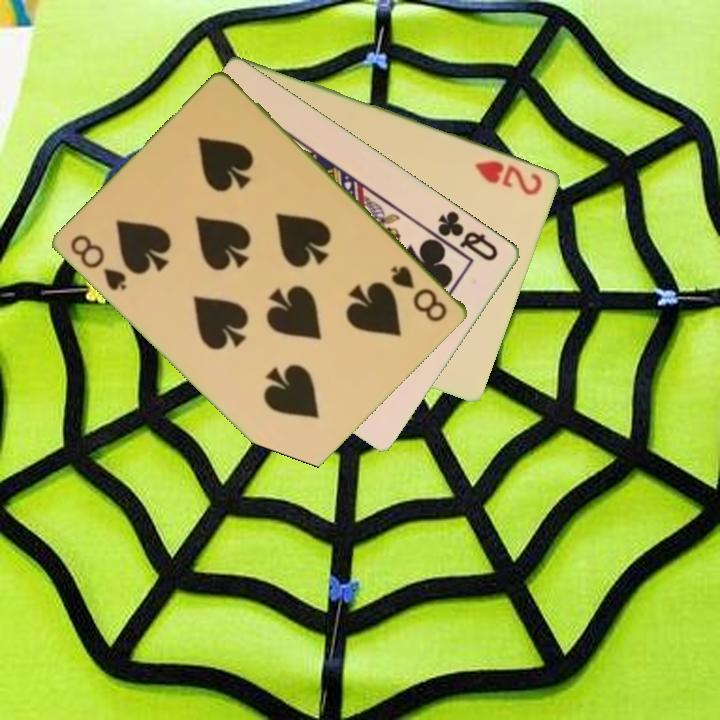2h: (471, 156, 546, 198)
8s: (67, 230, 131, 294), (388, 261, 451, 325)
Qc: (434, 206, 502, 264)
